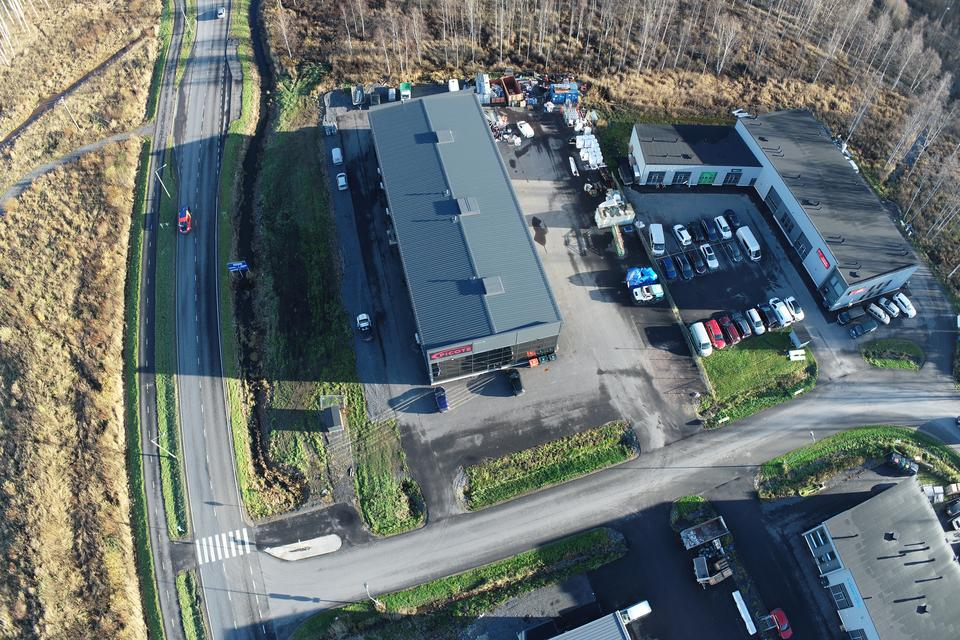intersection: (118, 491, 393, 640)
